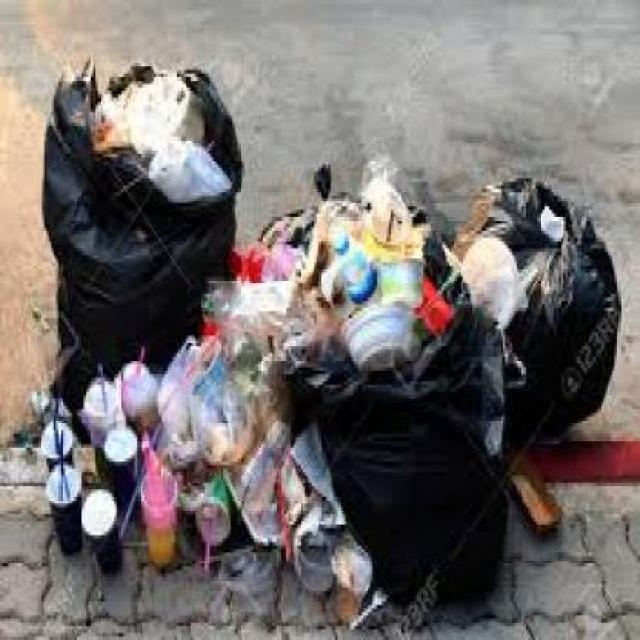garbage: (225, 171, 611, 626), (42, 53, 224, 403), (28, 365, 237, 582)
